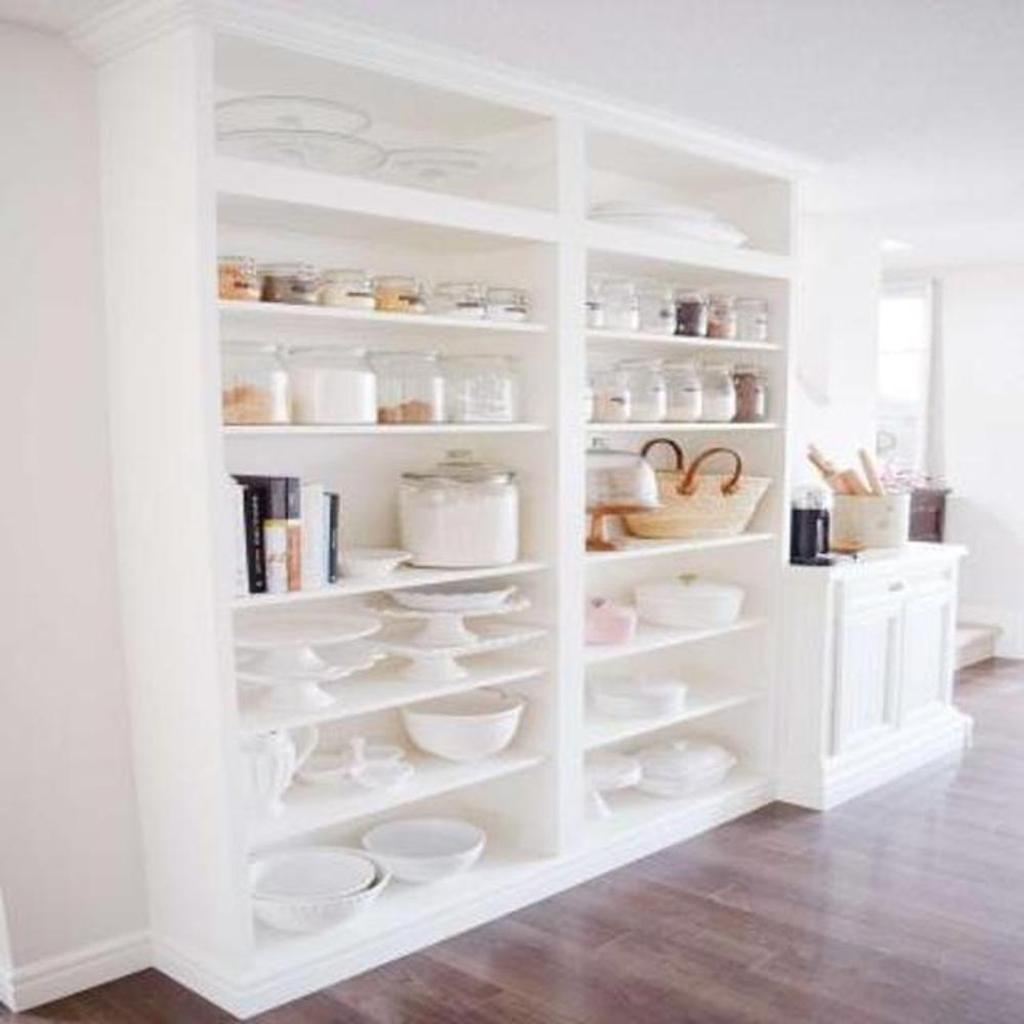lamp: (76, 1, 815, 1023)
